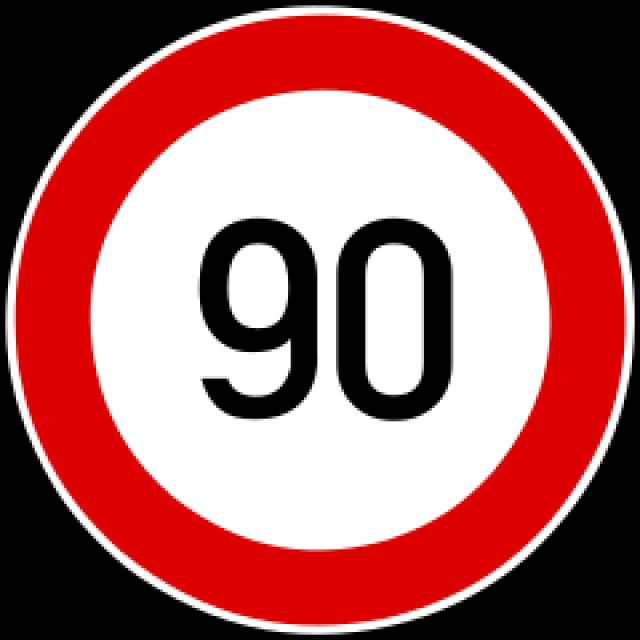Speed Limit -90-: (196, 208, 464, 426)
